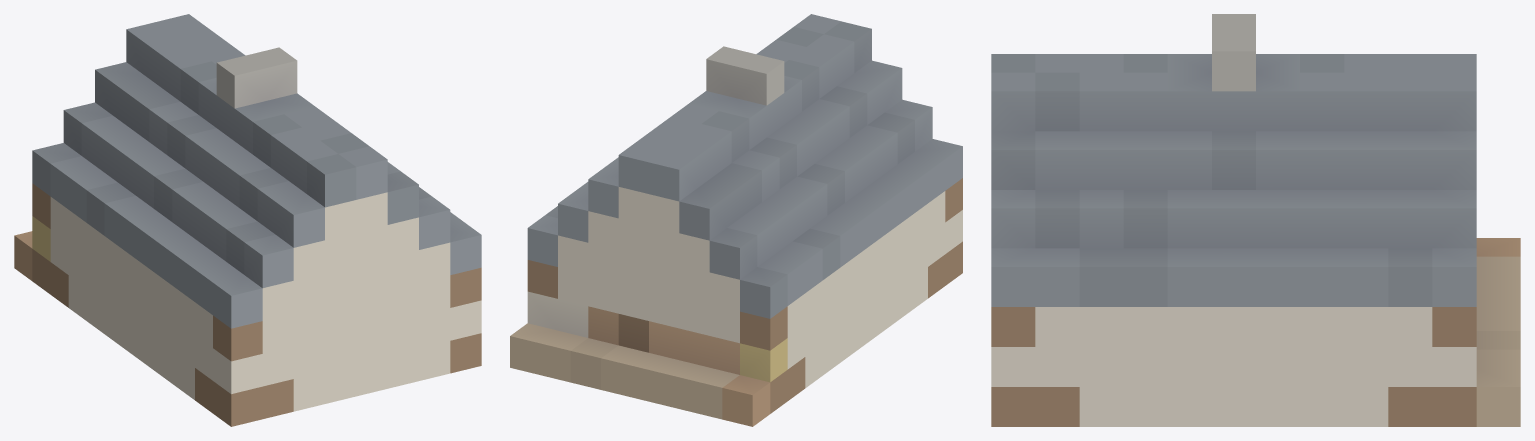
File: paper_mill.lite.glb
The picture shows the model from 3 angles, left to right: view 1: azimuth 30°, elevation 25°; view 2: azimuth 150°, elevation 25°; view 3: azimuth 270°, elevation 25°; orthographic projection. The views are drawn at different scales.
Parts seen in each view (by area): view 1: paper_mill; view 2: paper_mill; view 3: paper_mill.
Part boxes in pixels (x1,y1,x2,y2): paper_mill: (14,14,481,426); paper_mill: (510,14,962,426); paper_mill: (991,14,1520,426).
Size of the model in its own units: 4 by 4 by 6.
